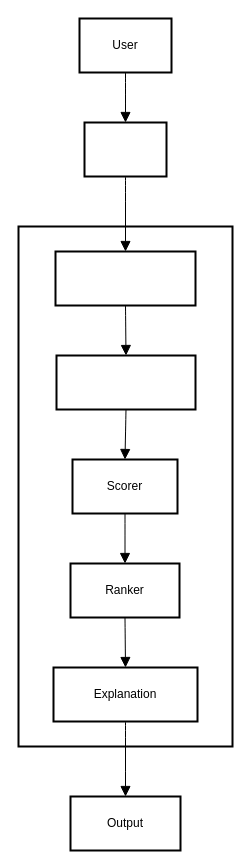
Image size: 250x868. Some labels were removed from this diagram. Each missing label, with the centre of its shape:
CLI: the point at 125,149
Constraints: the point at 125,278
Normalizer: the point at 125,382
